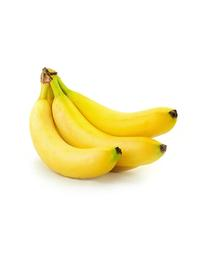banana: (28, 66, 177, 179)
